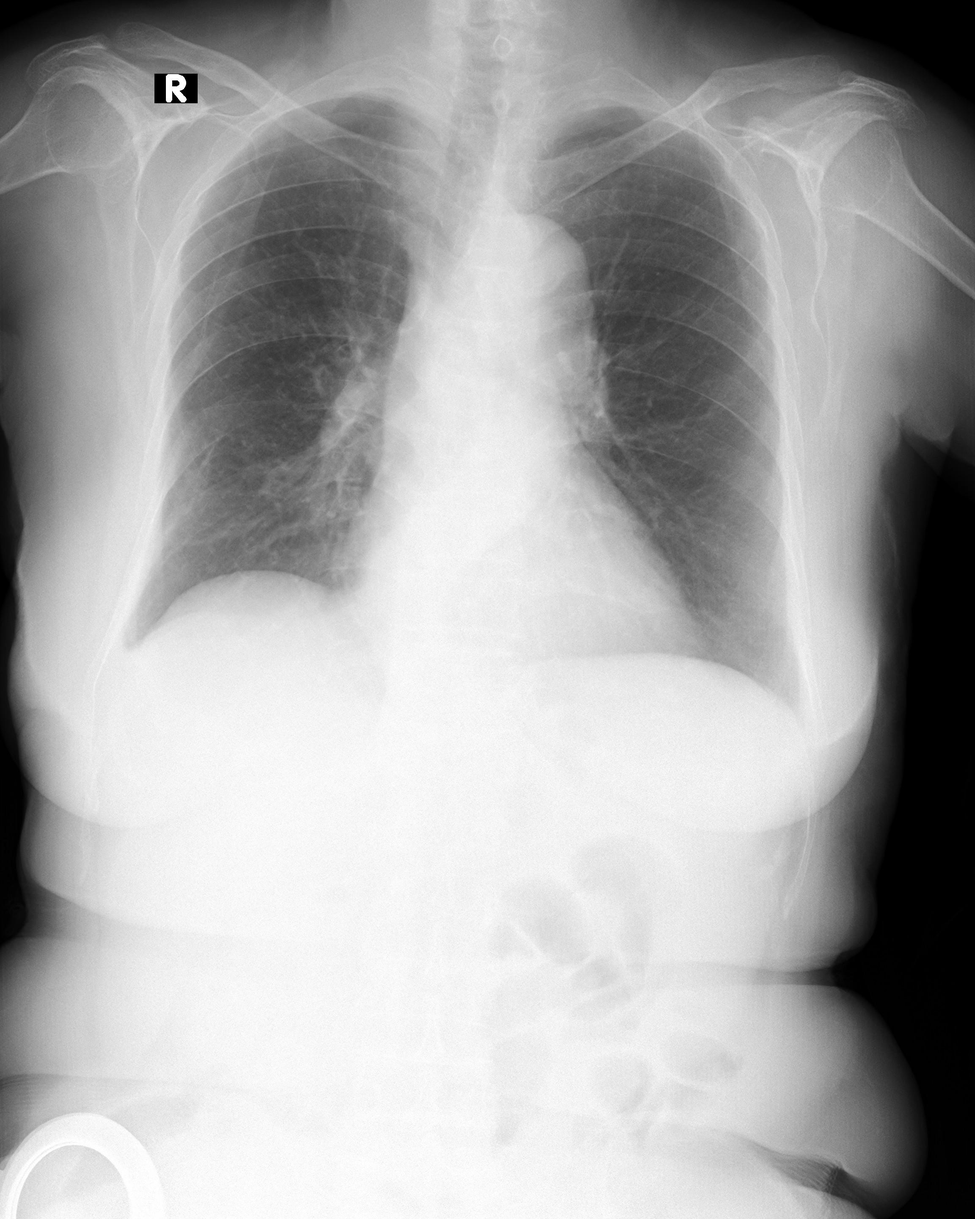Aortic enlargement: (470, 222, 596, 375)
